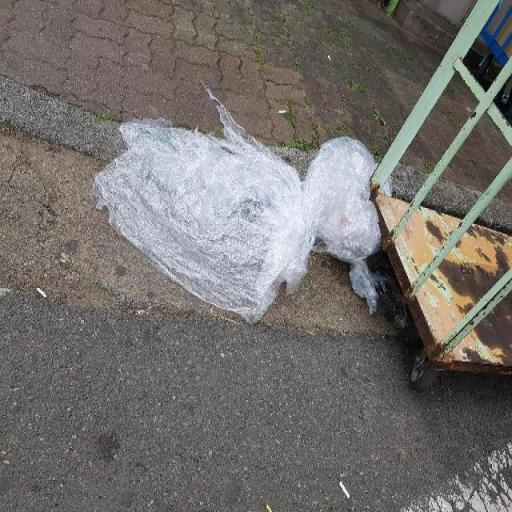plastic-bag: (91, 76, 386, 333)
